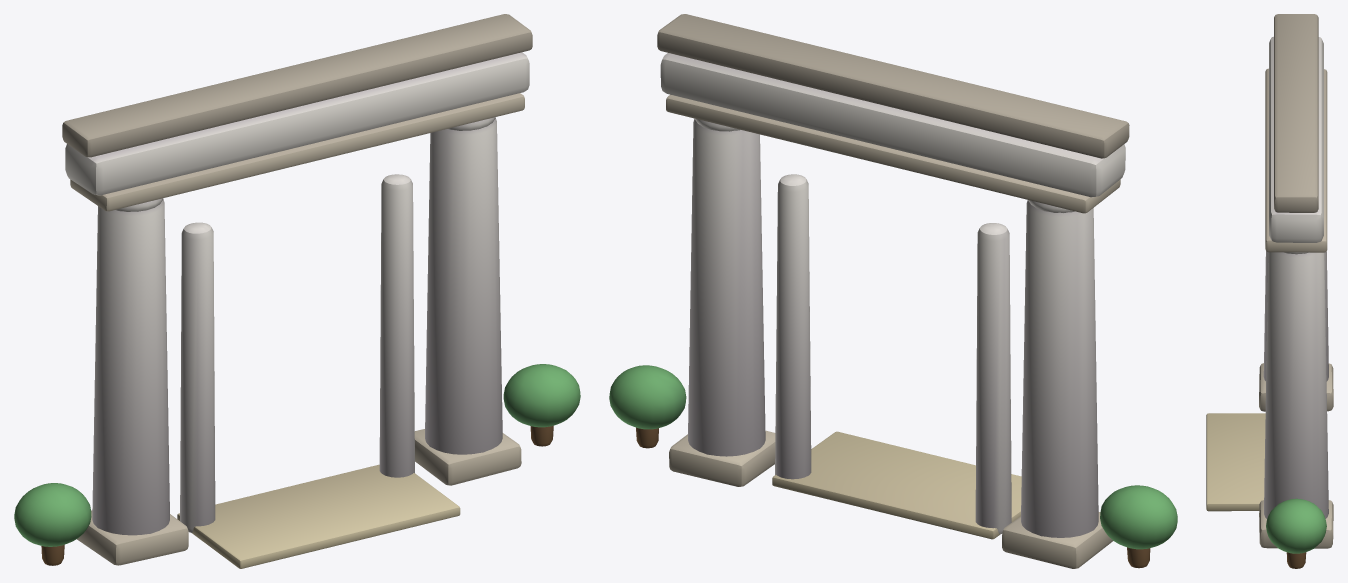
3 renders of one model, left to right at view 1: azimuth 30°, elevation 25°; view 2: azimuth 150°, elevation 25°; view 3: azimuth 270°, elevation 25°, orthographic. The views are drawn at different scales.
Visible parts, largest first — view 1: gate_ba7d9ff1; view 2: gate_ba7d9ff1; view 3: gate_ba7d9ff1.
Boxes of the visible parts, x1,y1,x2,y2 form: gate_ba7d9ff1: (14, 14, 580, 568); gate_ba7d9ff1: (609, 14, 1177, 568); gate_ba7d9ff1: (1206, 14, 1333, 568).
Size of the model in its own units: 6.05 by 4.45 by 1.42.
